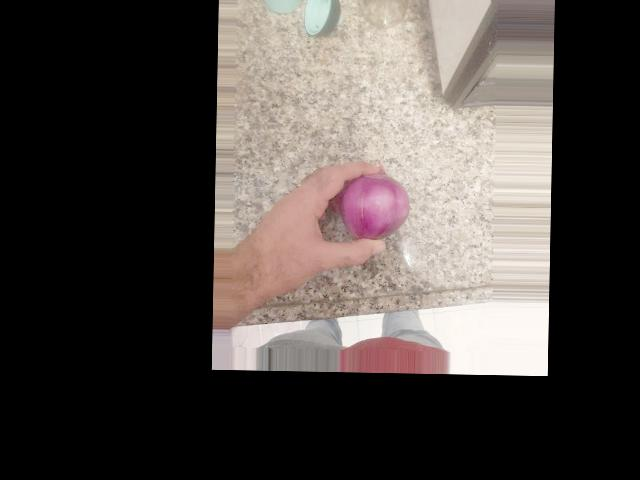onion: (341, 162, 414, 254)
